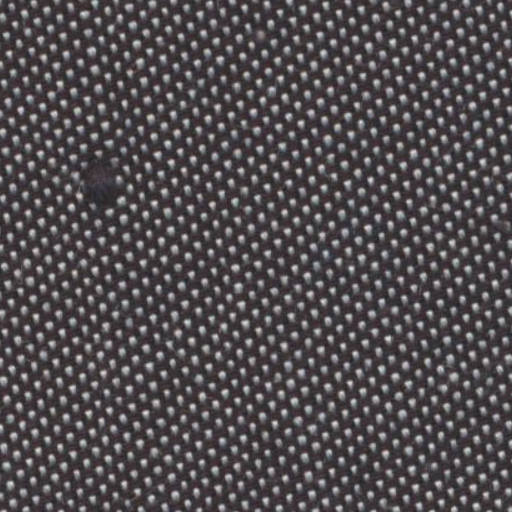MianQiu: (64, 147, 132, 210)
